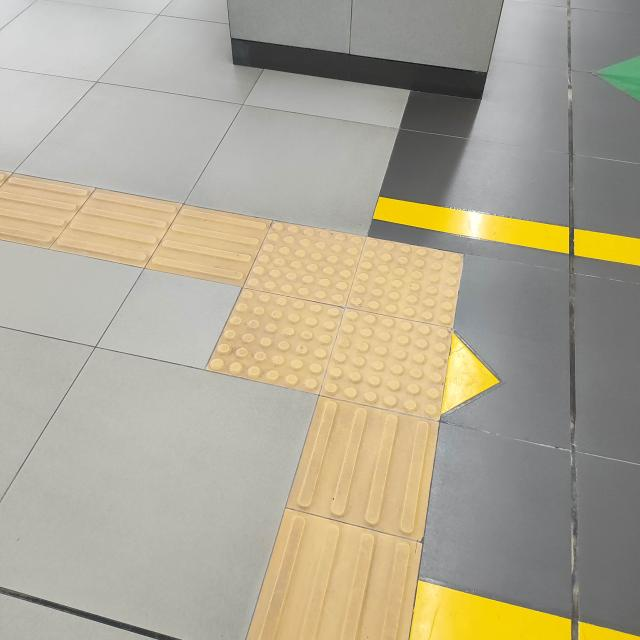kiri: (109, 179, 527, 471)
